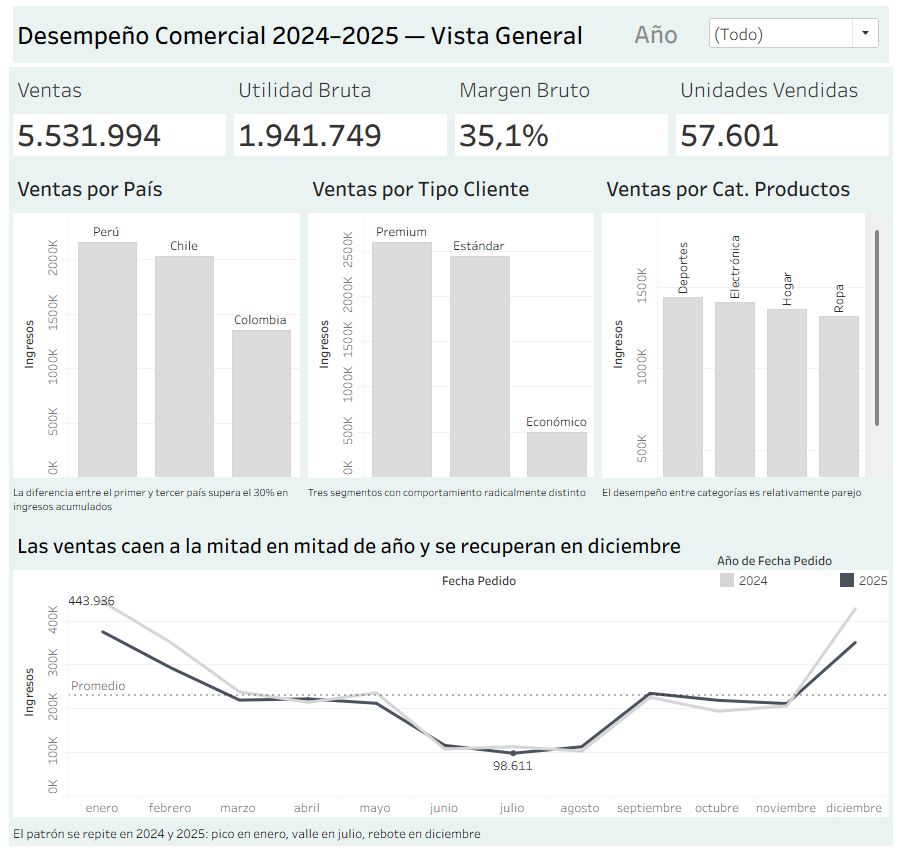

What the dashboard file says about the page in this screenshot:
{"tool":"tableau","page":{"name":"Overview F","canvas":[1000,1000],"units":"permille","ordinal":1},"visuals":[{"type":"text","box":[8.9,9.9,982.2,75.5]},{"type":"filter","title":"Gr Tiempo","param":"[federated.0886e9i09pgkn016tdz4d1e77o5y].[yr:Fecha_Pedido:ok]","box":[703.3,27.3,275.6,37.2]},{"type":"worksheet","title":"KPI 1","mark":"Automatic","box":[8.9,85.4,245.6,122.7]},{"type":"worksheet","title":"KPI 2","mark":"Automatic","box":[254.4,85.4,245.6,122.7]},{"type":"worksheet","title":"KPI 3","mark":"Automatic","box":[500,85.4,245.6,122.7]},{"type":"worksheet","title":"KPI 4","mark":"Automatic","box":[745.5,85.4,245.6,122.7]},{"type":"worksheet","title":"Gr Geográfica","mark":"Automatic","rows":["Ingresos"],"cols":["País"],"box":[8.9,208.1,327.4,442.4]},{"type":"worksheet","title":"Gr Clientes","mark":"Automatic","rows":["Ingresos"],"cols":["Segmento_Cliente"],"box":[336.3,208.1,327.4,442.4]},{"type":"worksheet","title":"Gr Productos","mark":"Automatic","rows":["Ingresos"],"cols":["Categoría_Producto"],"box":[663.7,208.1,327.4,442.4]},{"type":"worksheet","title":"Gr Tiempo","mark":"Automatic","rows":["Ingresos"],"cols":["Fecha_Pedido"],"box":[8.9,650.5,982.2,339.6]}]}

Visuals, with their boxes on the dashboard's canvas, which has no fixed pixel size, in thousandths of its width and height (x1, y1, x2, y2). These are canvas units, not pixel positions in the 907x853 screenshot, which may show the page scaled, cropped or inside an application window:
text: detection(9, 10, 991, 85)
"Gr Tiempo" filter: detection(703, 27, 979, 64)
"KPI 1" worksheet: detection(9, 85, 254, 208)
"KPI 2" worksheet: detection(254, 85, 500, 208)
"KPI 3" worksheet: detection(500, 85, 746, 208)
"KPI 4" worksheet: detection(746, 85, 991, 208)
"Gr Geográfica" worksheet: detection(9, 208, 336, 650)
"Gr Clientes" worksheet: detection(336, 208, 664, 650)
"Gr Productos" worksheet: detection(664, 208, 991, 650)
"Gr Tiempo" worksheet: detection(9, 650, 991, 990)
